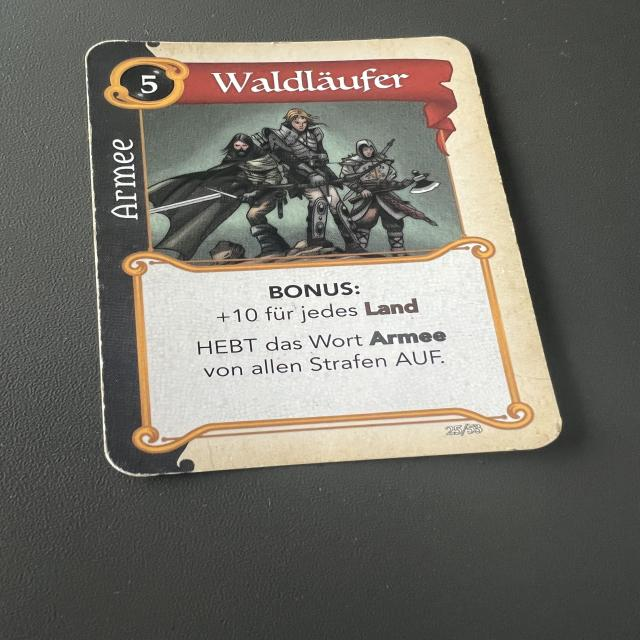Rangers: (84, 35, 568, 475)
